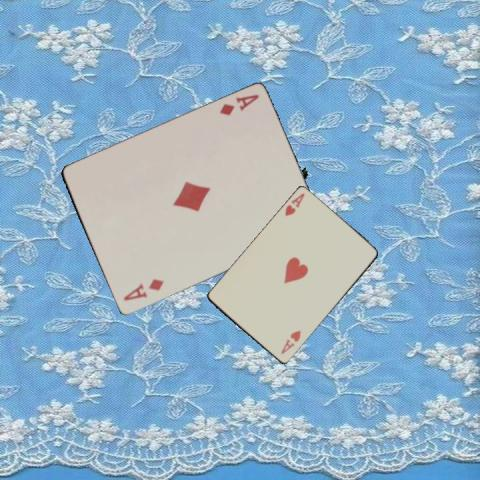Ad: (119, 276, 166, 303), (216, 92, 261, 118)
Ah: (278, 327, 303, 356), (282, 190, 306, 218)
